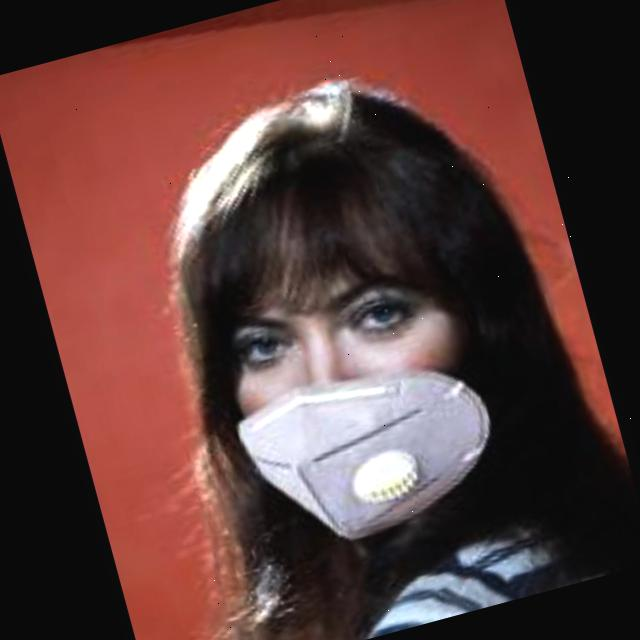suspicion: (64, 12, 586, 594)
